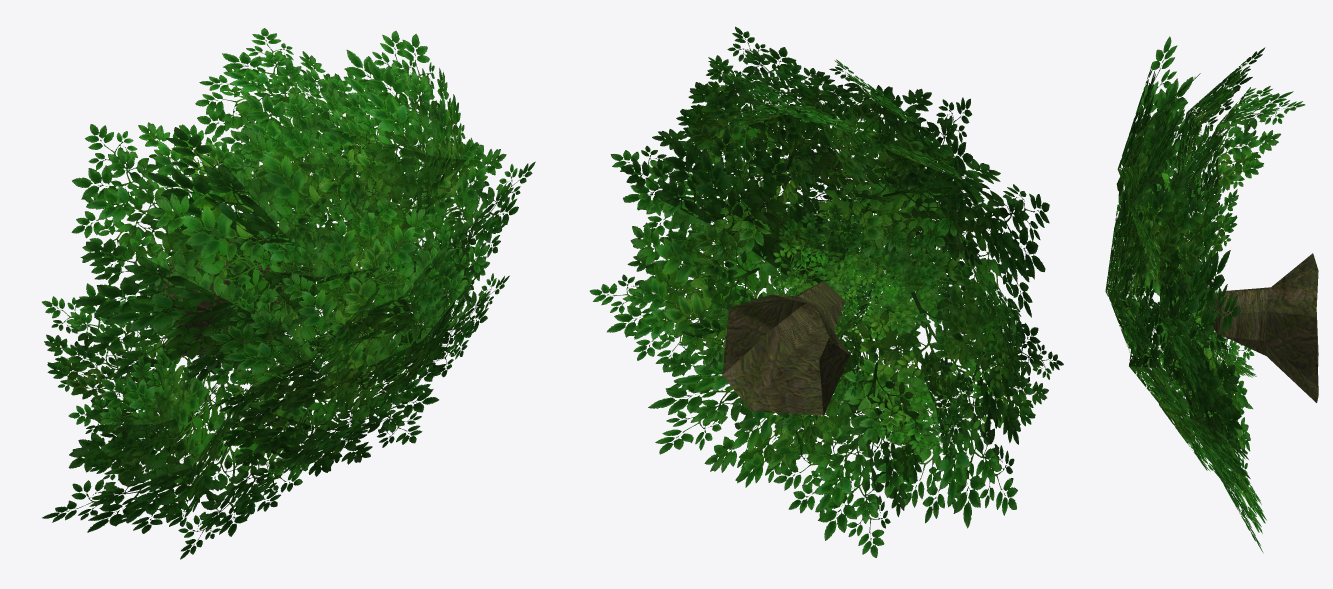
Rendered from huodong_fuben_188_shulin_01.obj.
The picture shows the model from 3 angles, left to right: view 1: azimuth 30°, elevation 25°; view 2: azimuth 150°, elevation 25°; view 3: azimuth 270°, elevation 25°; orthographic projection. The views are drawn at different scales.
Parts seen in each view (by area): view 1: huodong_fuben_188_shulin_01; view 2: huodong_fuben_188_shulin_01; view 3: huodong_fuben_188_shulin_01.
Boxes of the visible parts, x1,y1,x2,y2 form: huodong_fuben_188_shulin_01: (42, 28, 535, 559); huodong_fuben_188_shulin_01: (589, 26, 1063, 557); huodong_fuben_188_shulin_01: (1105, 36, 1318, 552).
Bounding box in the file's own units: 478 × 476 × 189.
Materials: 2 (2 with a texture image).
